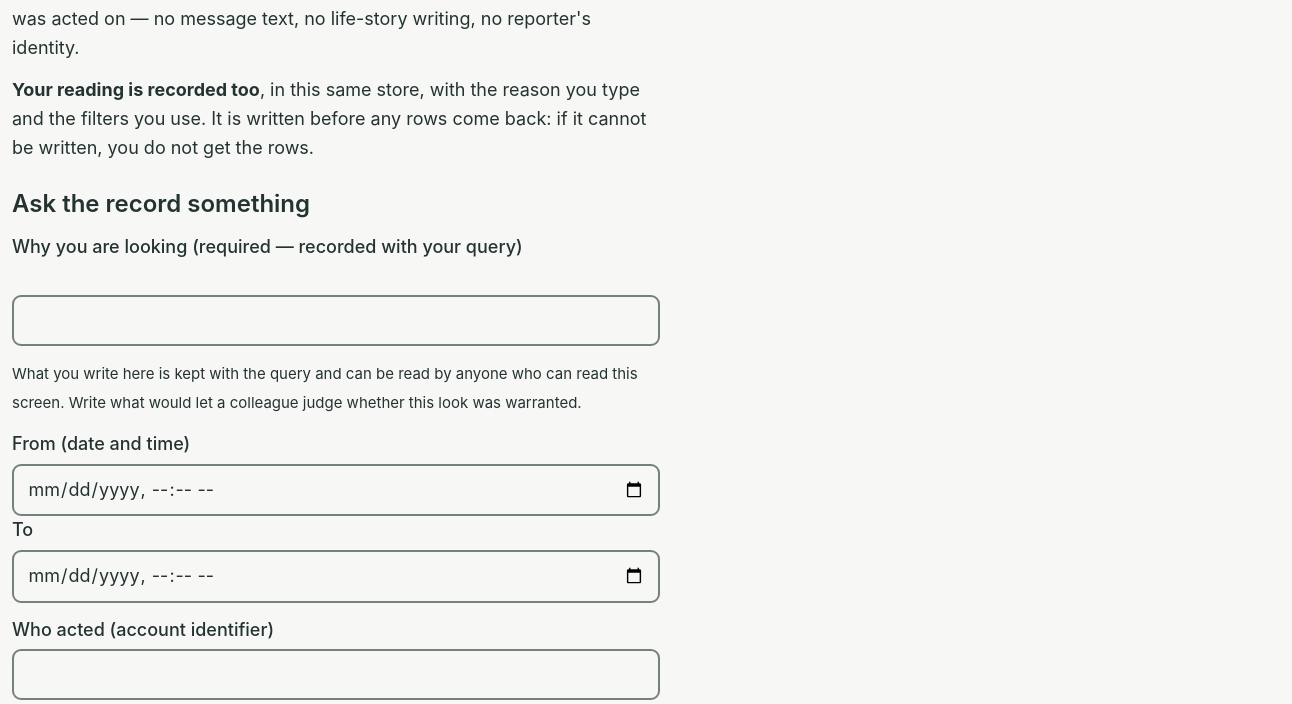
AuditAccess (G7) › will not search without a reason, and sends the reason with the query
(page scrolled)
Type "Reviewing break-glass 42" into the field labelled "Why you are looking (required — recorded with your query)" at (336, 320), box [12,295,660,346]
(page scrolled)
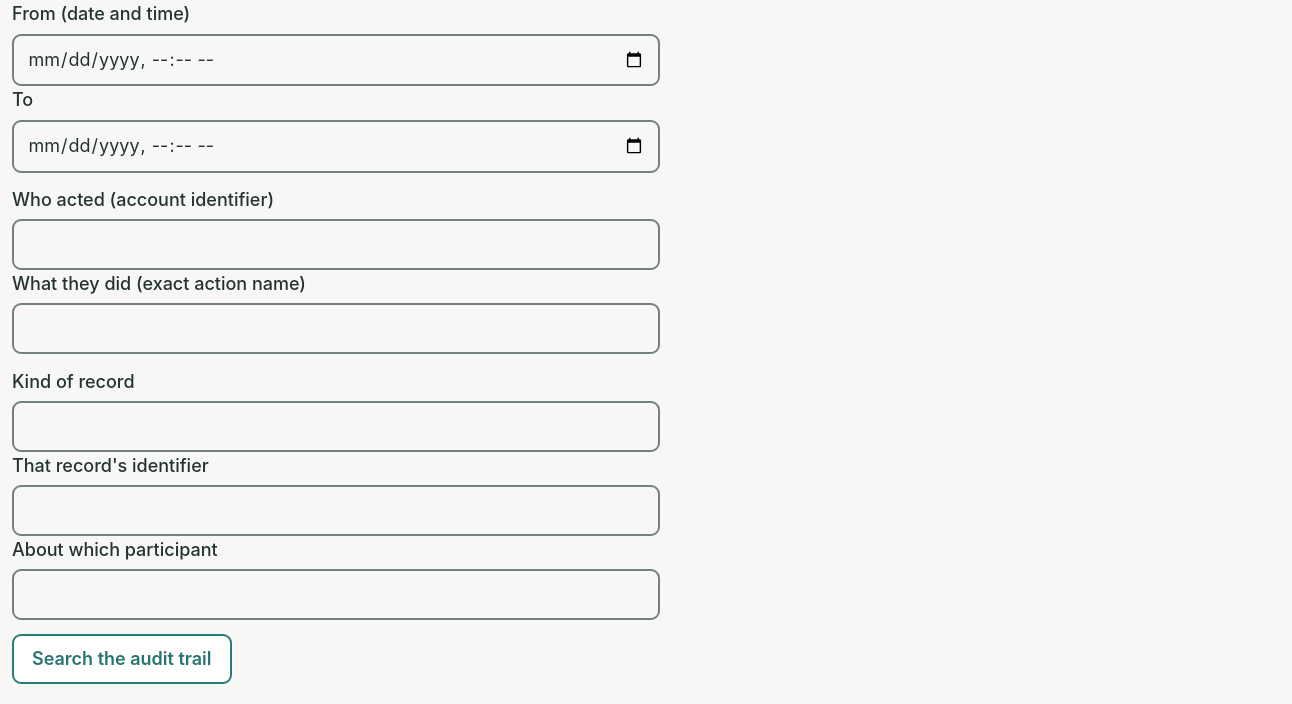
Result: the button "Search the audit trail" is enabled
Click the button "Search the audit trail" at (122, 659), box [12,634,232,684]
(page scrolled)
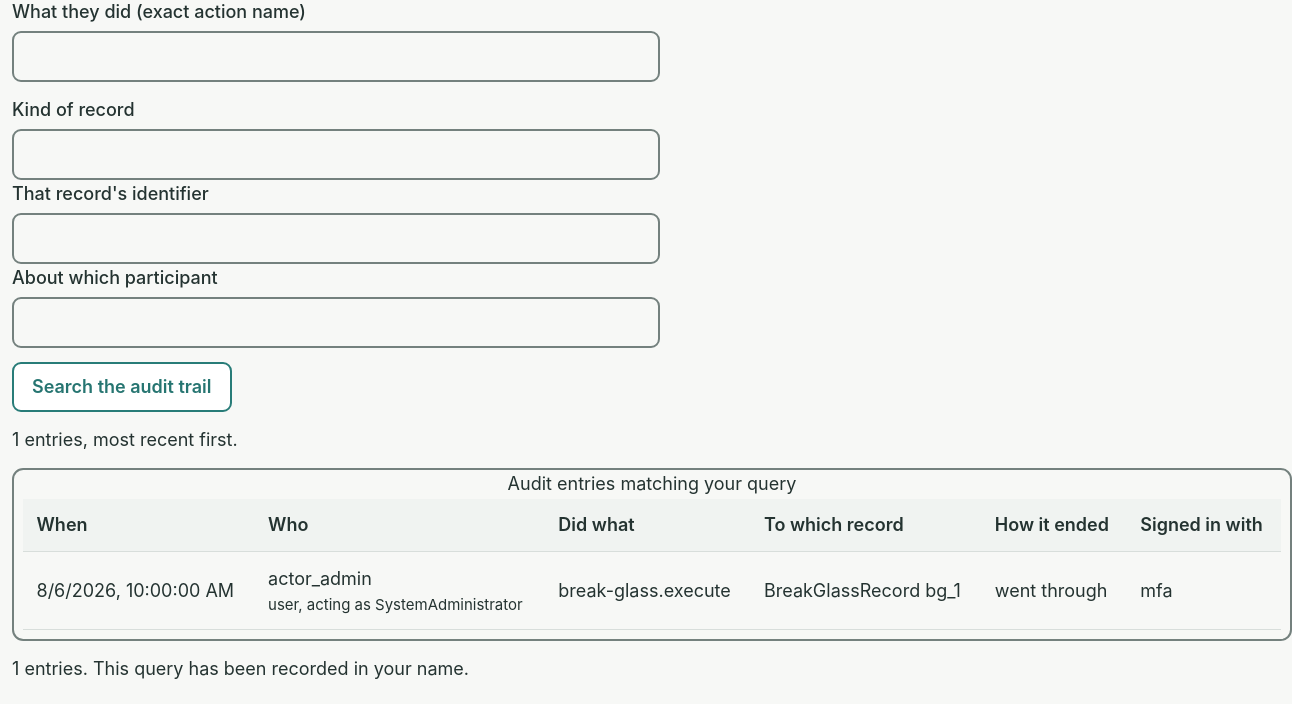
Result: the text "break-glass.execute" is shown at [545,552,750,630]
